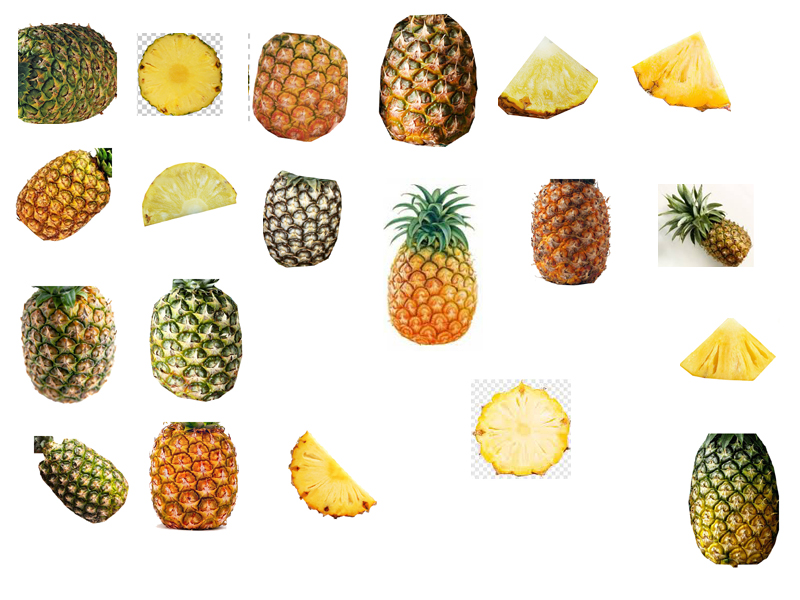pineapple: (384, 181, 479, 346), (684, 429, 782, 567), (380, 12, 477, 146), (147, 275, 247, 400), (15, 285, 120, 404), (11, 144, 114, 245), (254, 31, 347, 141), (18, 22, 118, 122), (145, 424, 237, 529), (525, 174, 611, 286), (494, 31, 597, 122), (285, 430, 382, 523), (474, 385, 572, 476), (633, 29, 737, 113), (33, 441, 130, 524), (263, 169, 341, 269), (659, 184, 753, 265), (139, 155, 240, 227), (682, 314, 778, 387), (137, 33, 223, 112)
